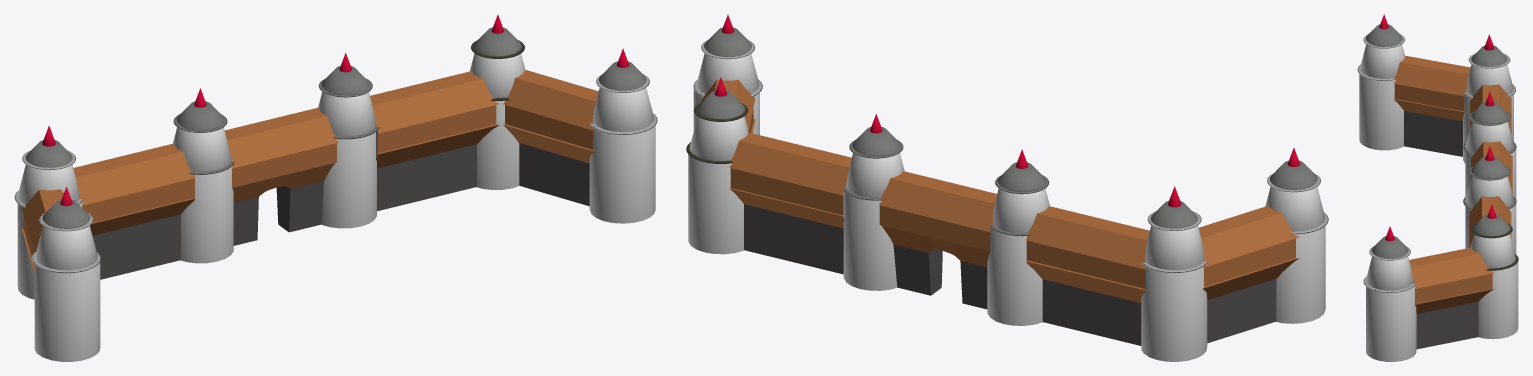
The model's file is Castle_Walls.fbx.
3 renders of one model, left to right at view 1: azimuth 30°, elevation 25°; view 2: azimuth 150°, elevation 25°; view 3: azimuth 270°, elevation 25°, orthographic. The views are drawn at different scales.
Parts seen in each view (by area): view 1: Castl_Walls; view 2: Castl_Walls; view 3: Castl_Walls.
Boxes of the visible parts, box(x1,y1,x2,y2) form: Castl_Walls: box(14, 14, 657, 361); Castl_Walls: box(686, 14, 1328, 361); Castl_Walls: box(1357, 14, 1518, 361).
Size of the model in its own units: 537 by 135 by 157.
